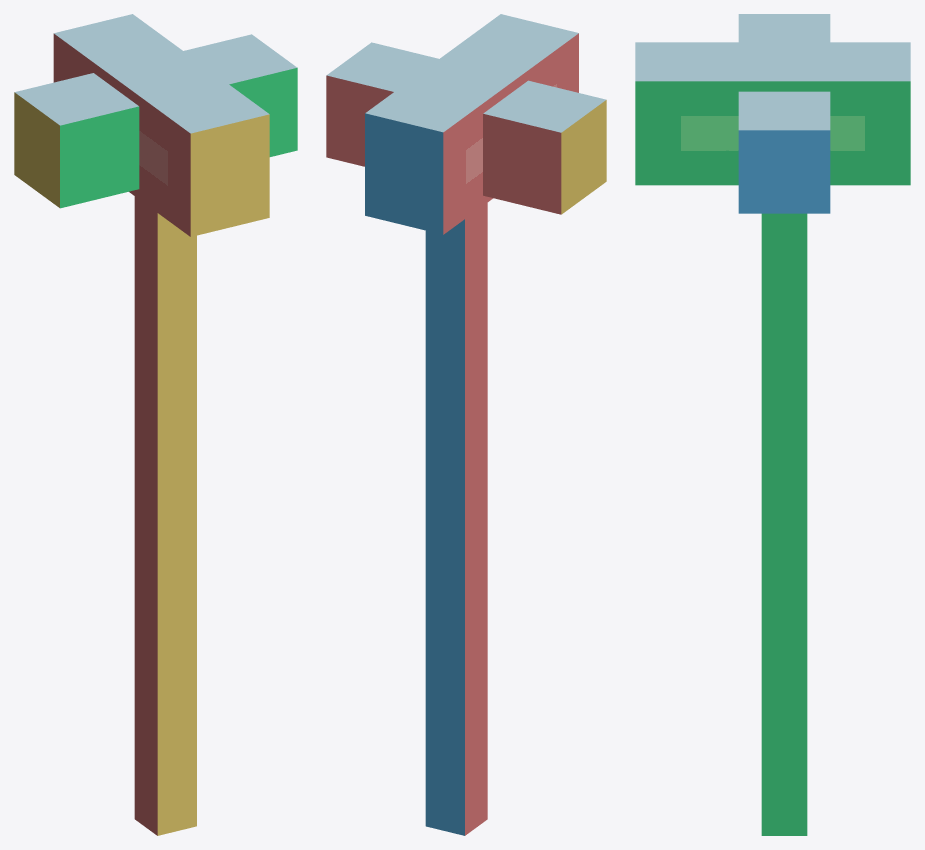
File: test_weapon.fbx
3 renders of one model, left to right at view 1: azimuth 30°, elevation 25°; view 2: azimuth 150°, elevation 25°; view 3: azimuth 270°, elevation 25°, orthographic.
Visible parts, largest first — view 1: stick, block1, block2; view 2: stick, block1, block2; view 3: block1, stick, block2.
Part boxes in pixels (x1,y1,x2,y2): stick: [134, 196, 196, 835]; block1: [53, 14, 269, 236]; block2: [14, 34, 297, 208]; stick: [425, 203, 487, 835]; block1: [365, 14, 578, 234]; block2: [326, 42, 606, 214]; block1: [635, 42, 910, 185]; stick: [761, 213, 807, 835]; block2: [738, 14, 830, 213].
Bounding box in the file's own units: 6.25 × 19.01 × 6.25.
1 material, 1 textured.
